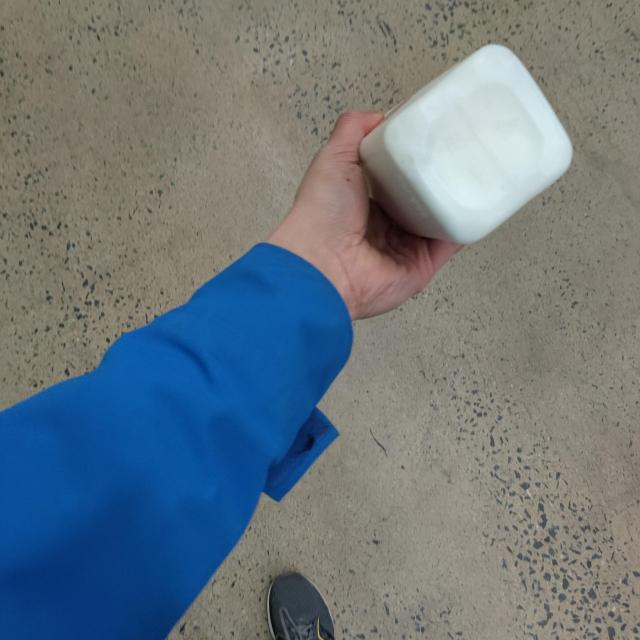Milk: (358, 47, 575, 243)
